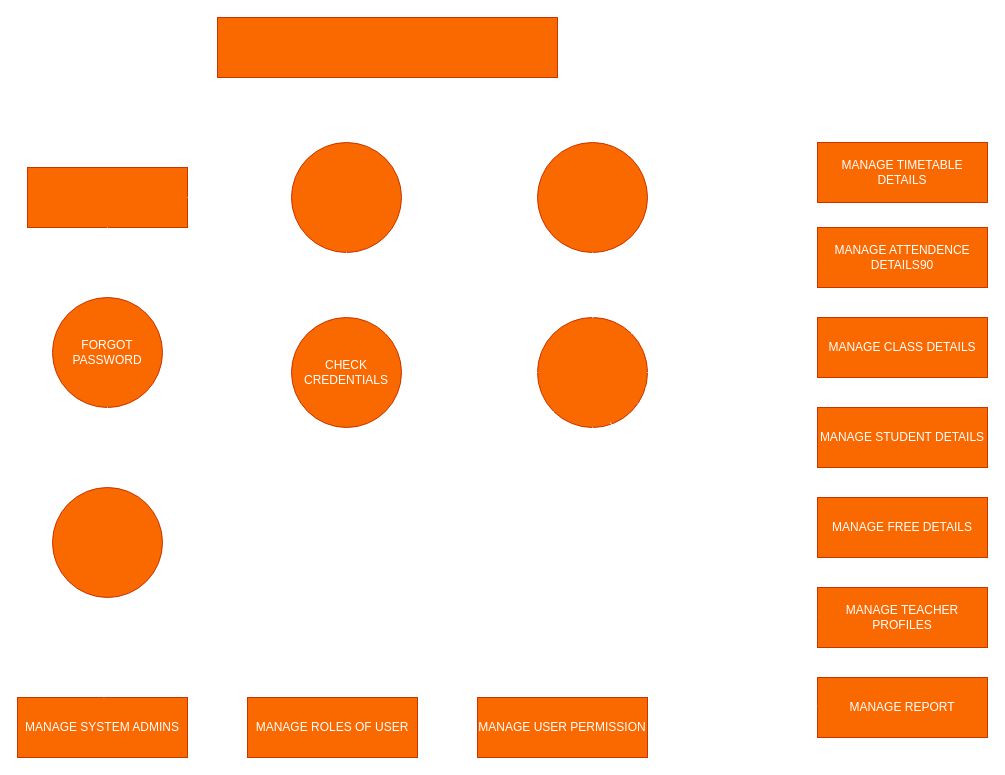
Some shapes in this 1005 by 775 pixel diagram are drawn without their labels. The centre of each missing label's shape, as x and y in pixels:
ADMIN: pixel 107 197
CHECK ROLES OF ACCESS: pixel 592 197
LOGIN TO SYSTEM: pixel 346 197
MANAGE MODULES: pixel 592 372
SEND EMAIL TO USERS: pixel 107 542
STUDENT INFORMATION SYSTEM: pixel 387 47
